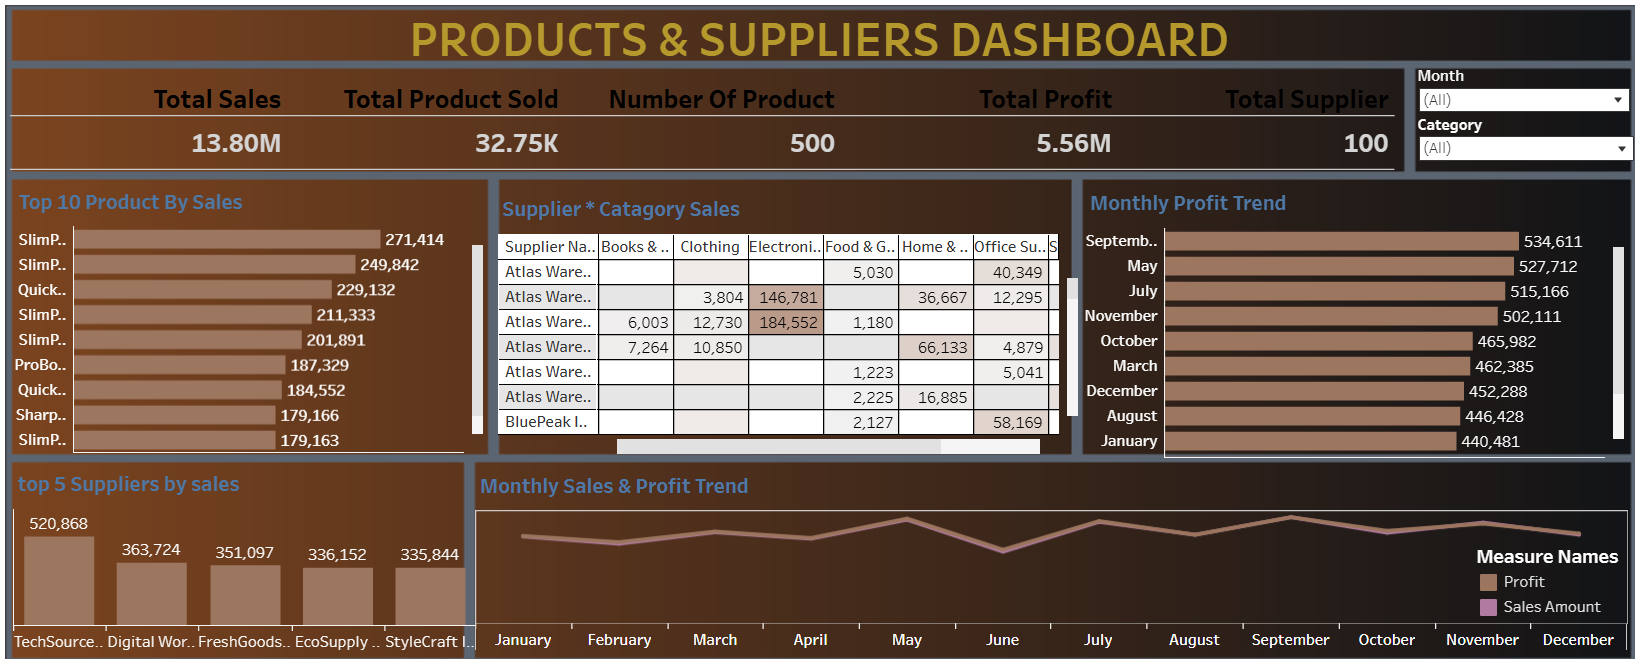

This screenshot's page, from the dashboard's own definition file:
{"tool":"tableau","page":{"name":"Dashboard 2","canvas":[1339,550],"ordinal":0},"visuals":[{"type":"image","param":"Image/tableau_background_1339x539.png","box":[8,8,1323,534]},{"type":"text","box":[13,14,1301,48]},{"type":"filter","title":"Monthly Profit Trend","param":"[federated.18rfy3m1rrcj111dno0x304yty26].[mn:Order_Date:ok]","box":[1142,59,171,47]},{"type":"worksheet","title":"KPI 2","mark":"Text","box":[16,60,1108,84]},{"type":"filter","title":"Supplier * Catagory Sales","param":"[federated.18rfy3m1rrcj111dno0x304yty26].[none:Category:nk]","box":[1142,98,174,44]},{"type":"worksheet","title":"Top 10 Product By Sales","mark":"Automatic","rows":["Product_Name"],"cols":["Sales_Amount"],"box":[19,151,378,219]},{"type":"worksheet","title":"Monthly Profit Trend","mark":"Bar","rows":["Order_Date"],"cols":["Profit"],"box":[876,152,434,222]},{"type":"worksheet","title":"Supplier * Catagory Sales","mark":"Square","rows":["Supplier_Name"],"cols":["Category"],"box":[406,157,464,214]},{"type":"worksheet","title":"top 5 Suppliers by sales","mark":"Automatic","rows":["Sales_Amount"],"cols":["Supplier_Name"],"box":[18,377,371,166]},{"type":"worksheet","title":"Monthly Sales & Profit Trend","mark":"Automatic","rows":["Sales_Amount","Profit"],"cols":["Order_Date"],"box":[388,378,922,151]},{"type":"legend","title":"Monthly Sales & Profit Trend","param":"[federated.18rfy3m1rrcj111dno0x304yty26].[:Measure Names]","box":[1189,442,140,59]}]}

Visuals, with their boxes in screenshot pixels (x1, y1, x2, y2), scaled from the page's 1339x550 canvas onto the 1639x663 screenshot:
image: 10/10/1629/653
text: 16/17/1608/75
"Monthly Profit Trend" filter: 1398/71/1607/128
"KPI 2" worksheet (Text marks): 20/72/1376/174
"Supplier * Catagory Sales" filter: 1398/118/1611/171
"Top 10 Product By Sales" worksheet: 23/182/486/446
"Monthly Profit Trend" worksheet (Bar marks): 1072/183/1604/451
"Supplier * Catagory Sales" worksheet (Square marks): 497/189/1065/447
"top 5 Suppliers by sales" worksheet: 22/454/476/655
"Monthly Sales & Profit Trend" worksheet: 475/456/1604/638
"Monthly Sales & Profit Trend" legend: 1455/533/1627/604
